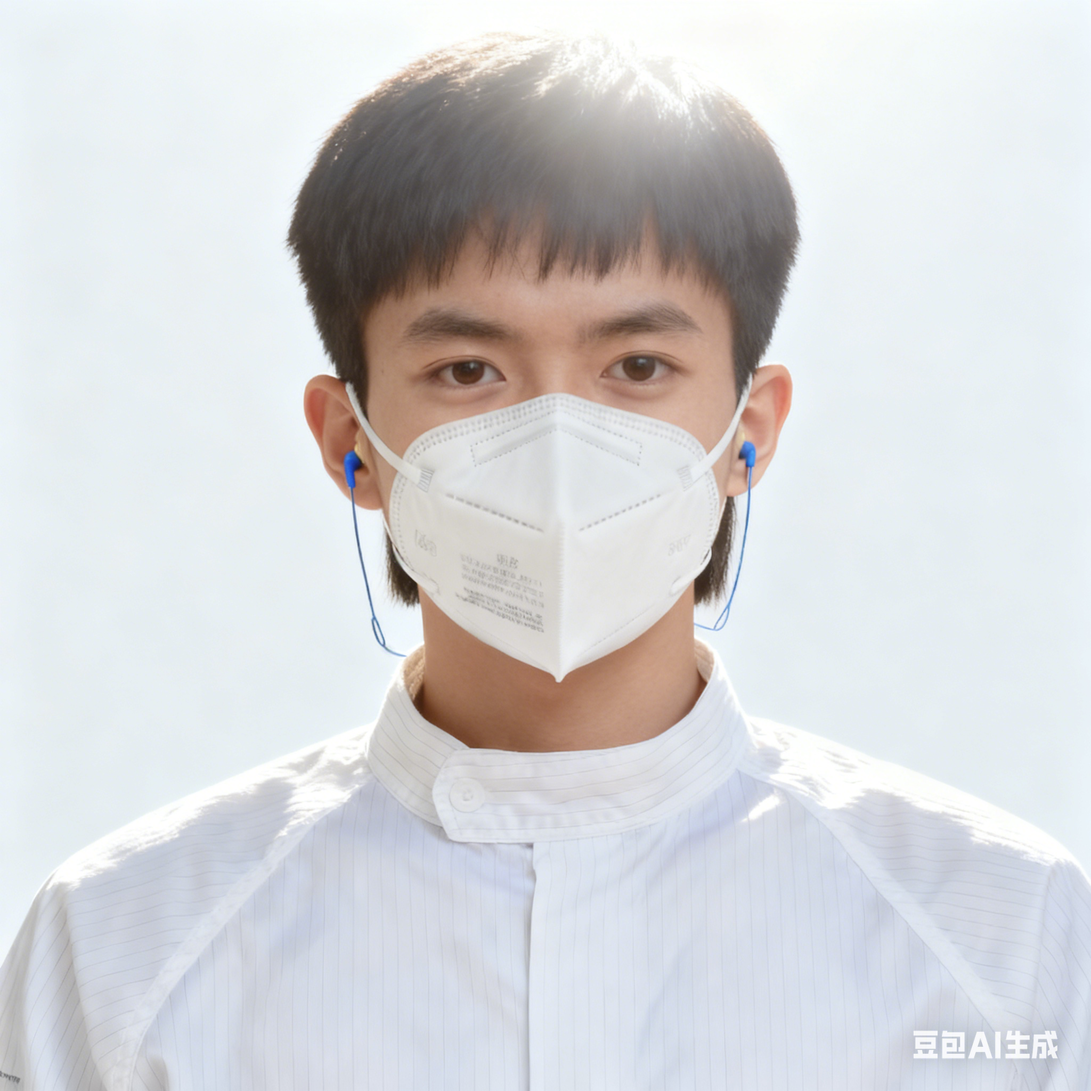MASK: (383, 389, 719, 681)
